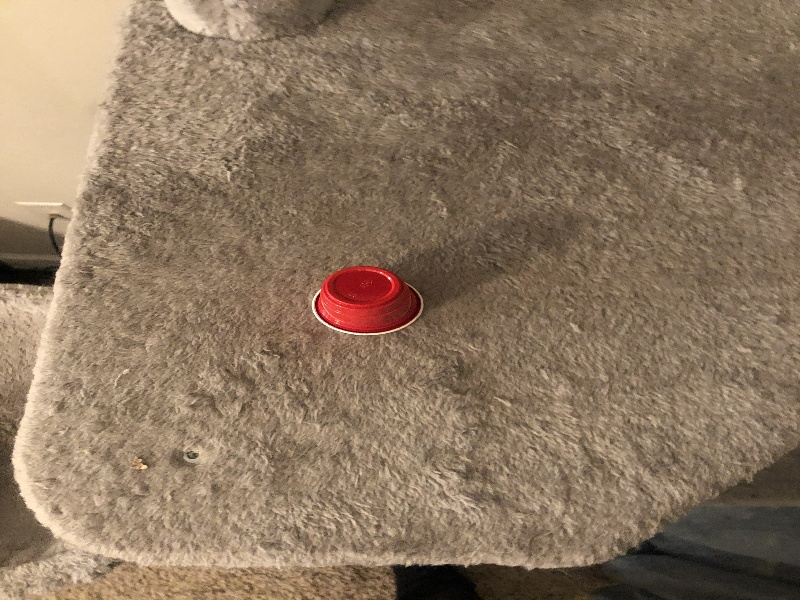plastic: (305, 262, 427, 337)
